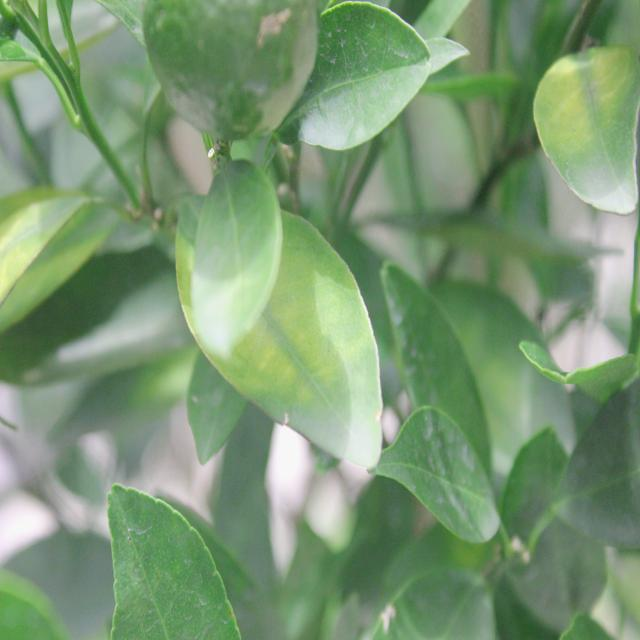greening: (268, 245, 374, 437), (534, 55, 640, 208)
